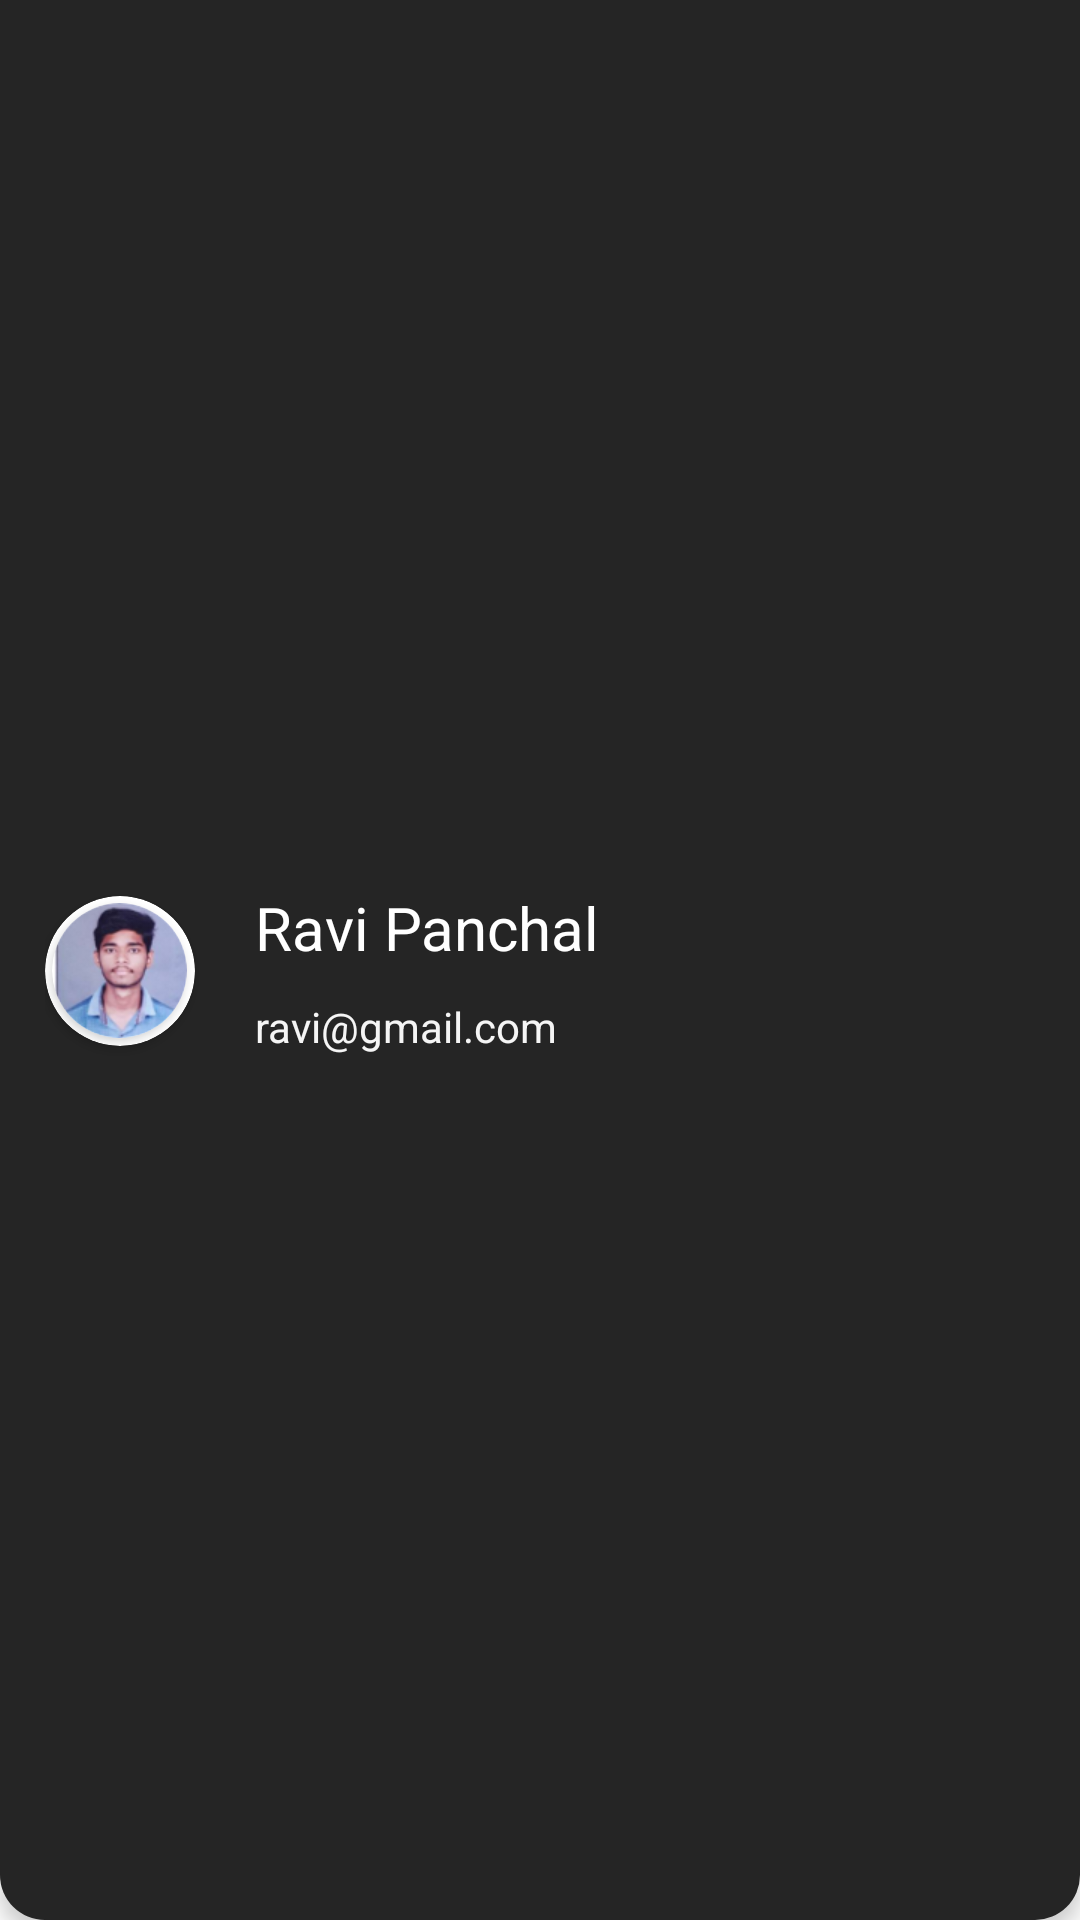

Point at icon controls on the screen. Image size 1080w x 1920h, points as (x,y).
demo profile: (119,970)
